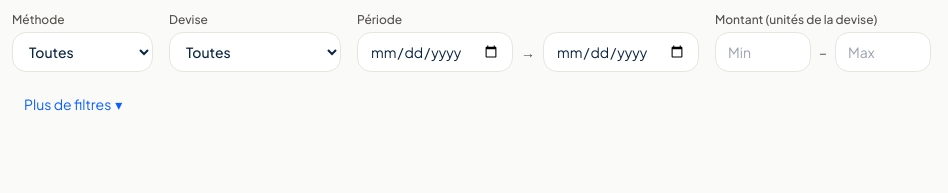
Test: PaymentFilters › « Plus de filtres » : disclosure fermée par défaut, ouverte au clic
Click the button with test id "more-filters".
click(73, 104)  # box left=12, top=84, right=134, bottom=124
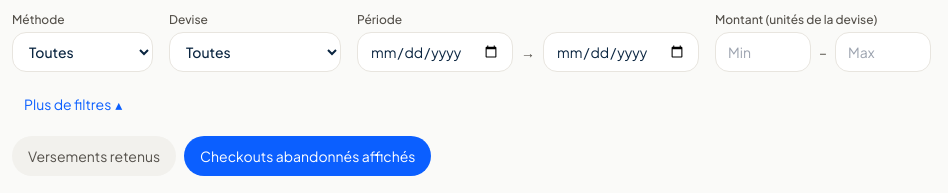
Check: the button with test id "more-filters" is expanded, box left=12, top=84, right=134, bottom=124
